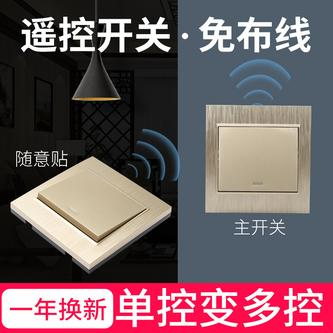switch: (33, 163, 151, 241), (214, 118, 307, 198)
